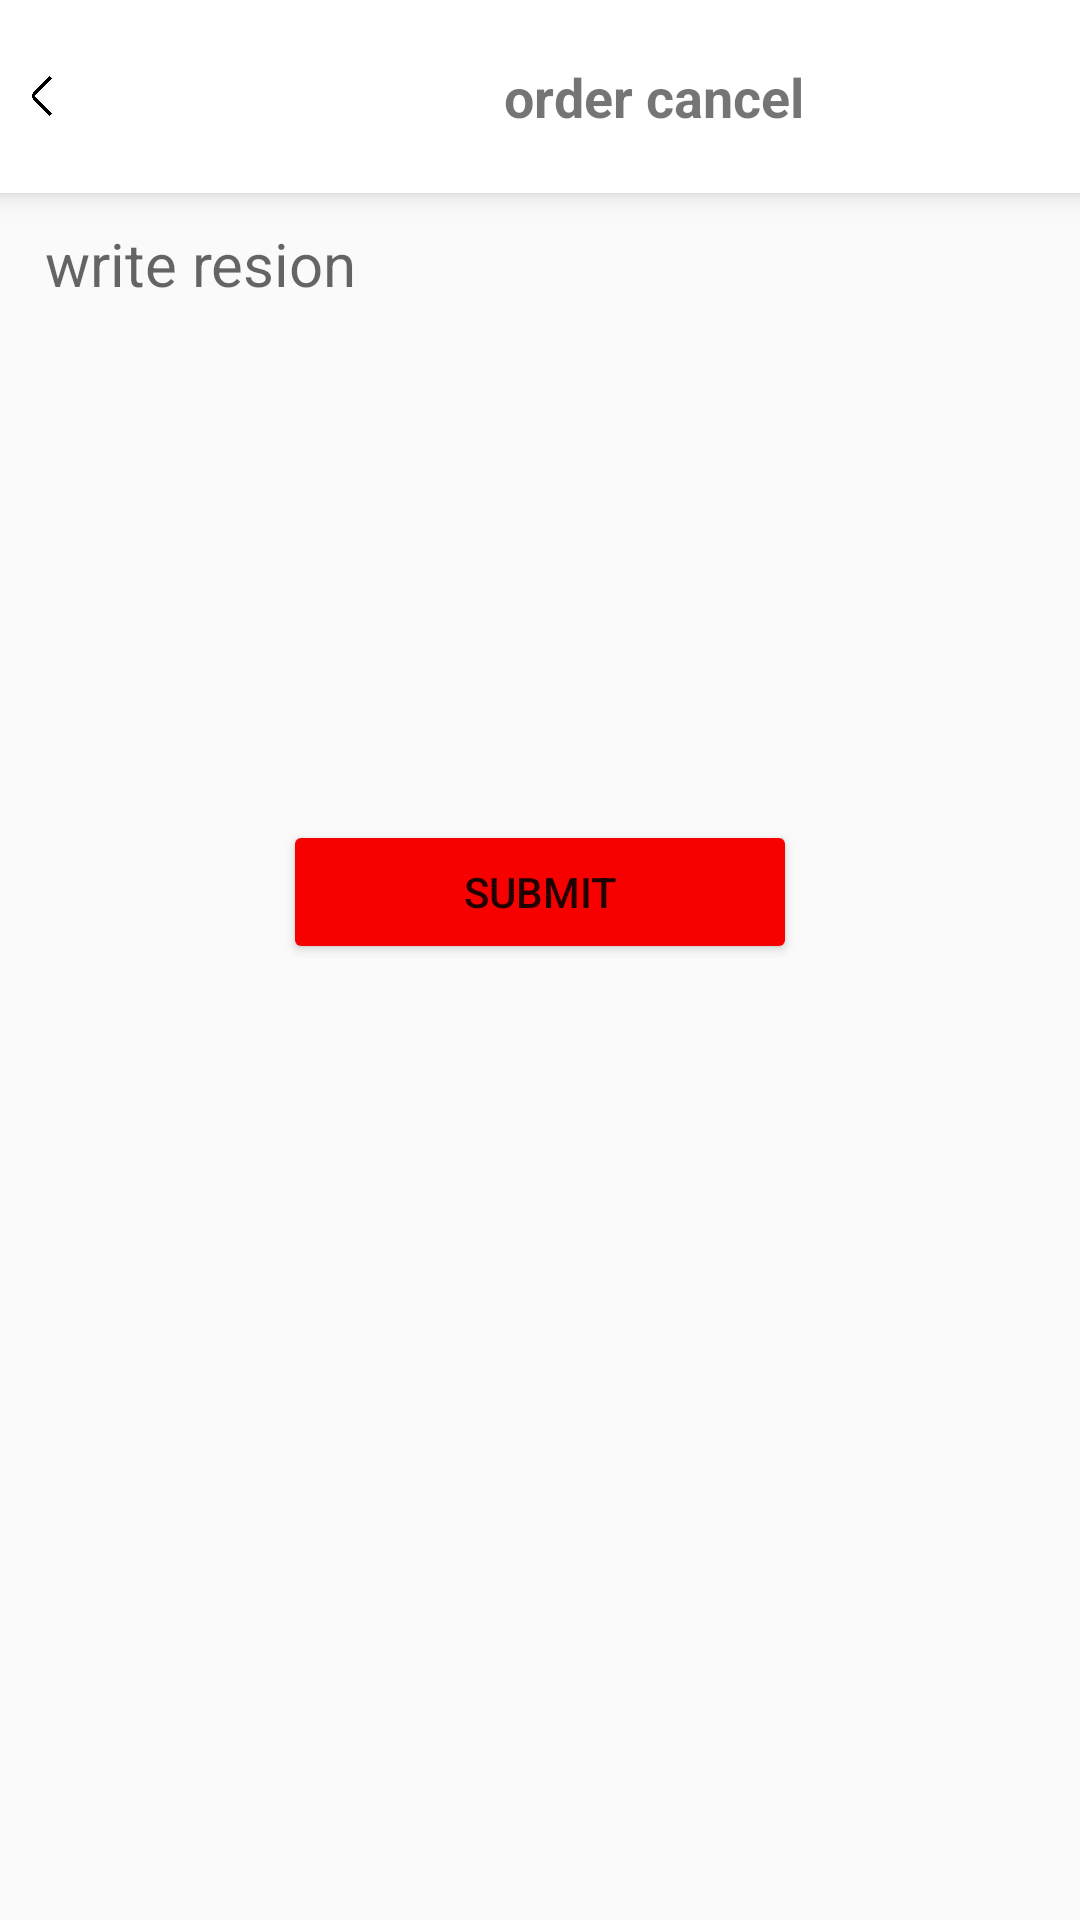

Screen size 1080x1920. Icon name, then its box in pixels as (x1, y1, x2, y2):
back: (32, 76, 52, 116)
